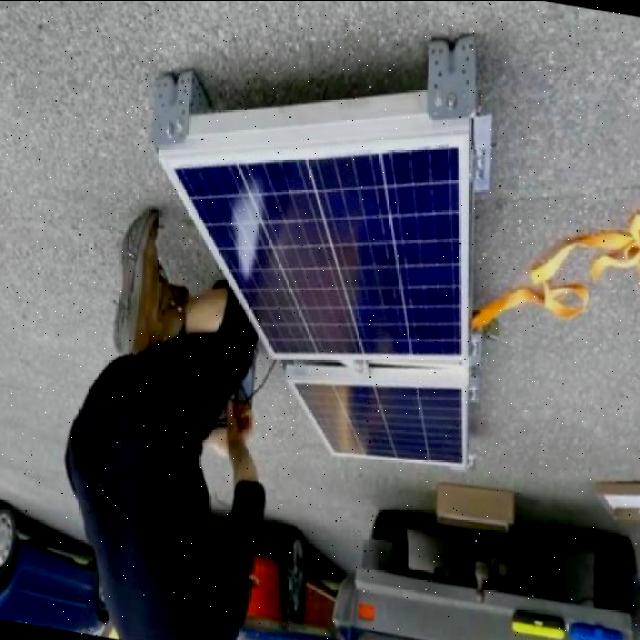Normal Solar Panel: (138, 93, 500, 394), (280, 362, 480, 477)
